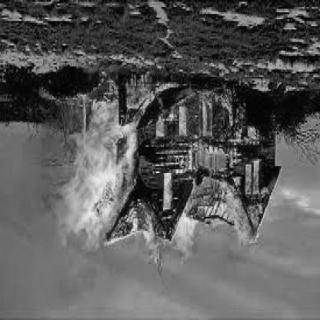Fire: (39, 73, 275, 267)
